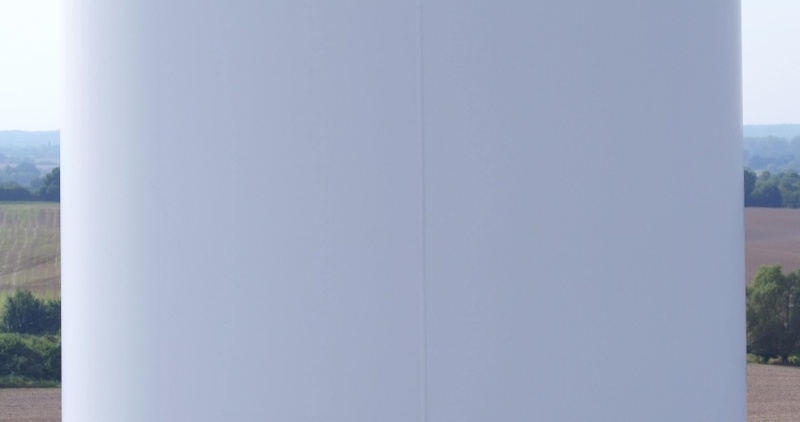weldseam: (408, 1, 438, 422)
